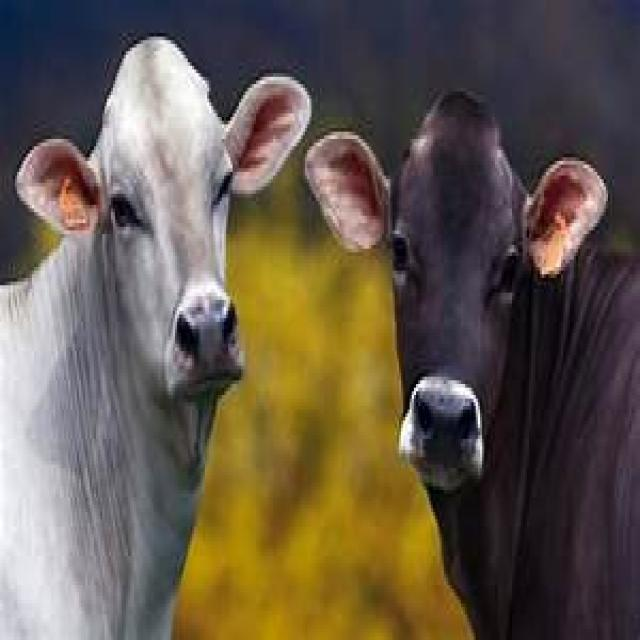cow: (0, 37, 314, 640), (384, 88, 640, 640)
